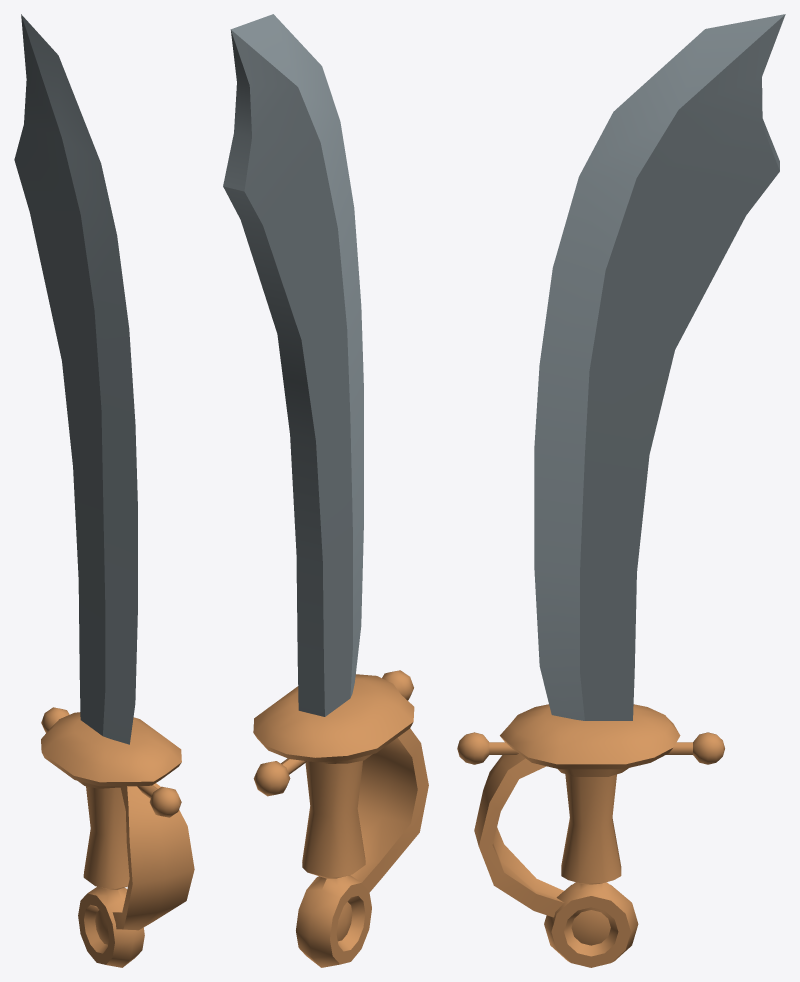
Rendered from scimitar.gltf.glb.
The picture shows the model from 3 angles, left to right: view 1: azimuth 30°, elevation 25°; view 2: azimuth 150°, elevation 25°; view 3: azimuth 270°, elevation 25°; orthographic projection. The views are drawn at different scales.
Visible parts, largest first — view 1: scimitar; view 2: scimitar; view 3: scimitar.
Boxes of the visible parts, x1,y1,x2,y2 form: scimitar: [14, 14, 194, 967]; scimitar: [223, 14, 428, 967]; scimitar: [457, 14, 785, 967].
Size of the model in its own units: 0.2146 by 1.68 by 0.5262.
